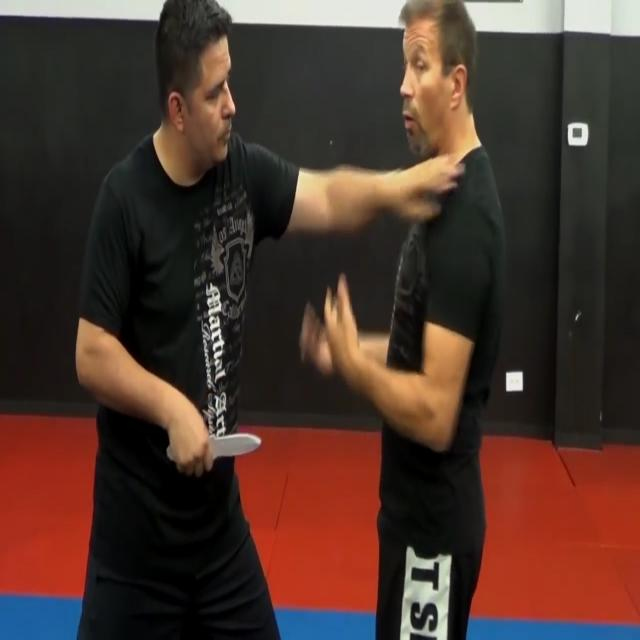knife: (205, 425, 263, 470)
